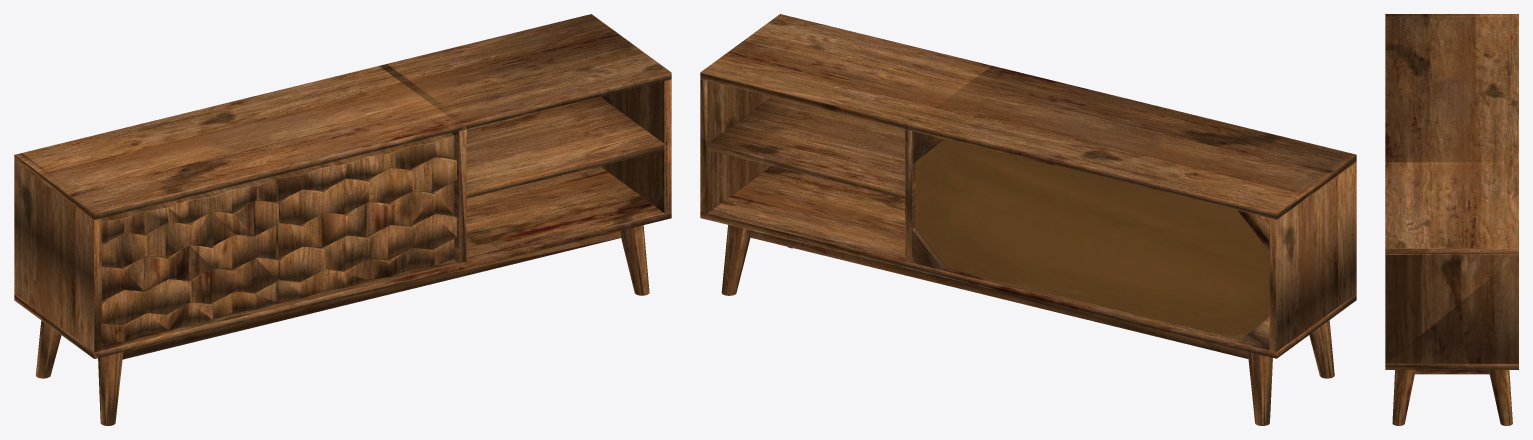
The model's file is tv_stand_abo_B07HSG8DPZ.glb.
3 renders of one model, left to right at view 1: azimuth 30°, elevation 25°; view 2: azimuth 150°, elevation 25°; view 3: azimuth 270°, elevation 25°, orthographic. The views are drawn at different scales.
Visible parts, largest first — view 1: RootNode; view 2: RootNode; view 3: RootNode.
Part boxes in pixels (bbox=[...]): RootNode: bbox=[14, 14, 671, 425]; RootNode: bbox=[700, 14, 1356, 425]; RootNode: bbox=[1385, 14, 1518, 425].
Size of the model in its own units: 1.45 by 0.5283 by 0.3487.
Materials: 1 (1 with a texture image).
